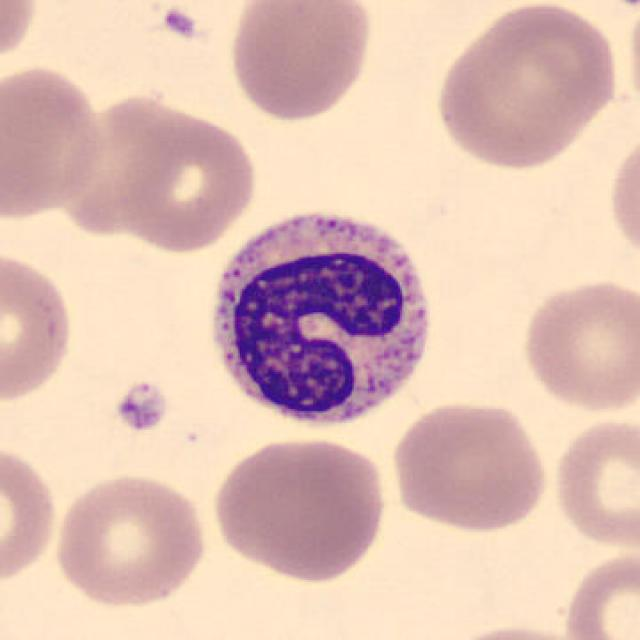Neutrophil: (196, 192, 446, 443)
Platelets: (112, 379, 169, 434), (158, 3, 201, 42)
RBC: (428, 0, 618, 175), (208, 432, 391, 582), (386, 397, 553, 534), (50, 469, 212, 610), (113, 104, 260, 256), (224, 0, 377, 123), (0, 60, 108, 224), (518, 273, 638, 416), (0, 247, 78, 409), (548, 412, 638, 552), (0, 439, 62, 591), (560, 546, 638, 640), (604, 124, 640, 274), (432, 620, 592, 640), (0, 0, 39, 78), (576, 0, 638, 19)
